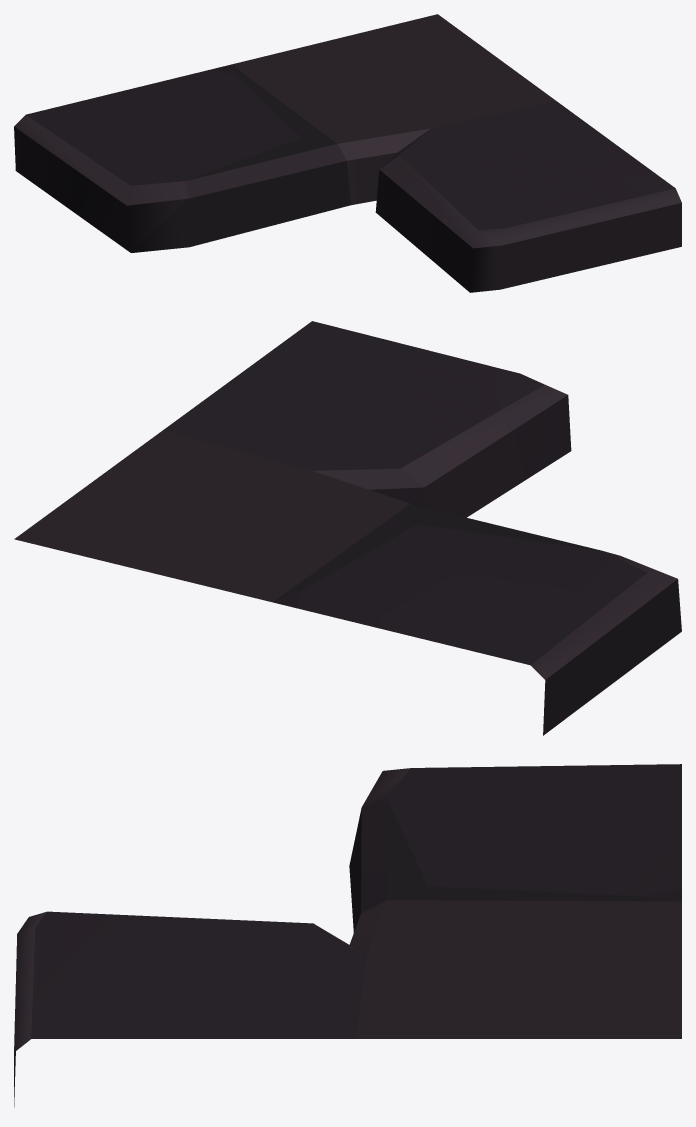
File: floor_pit_edge_corner_3.fbx
3 renders of one model, top to bottom at view 1: azimuth 30°, elevation 25°; view 2: azimuth 150°, elevation 25°; view 3: azimuth 270°, elevation 25°, orthographic. The views are drawn at different scales.
Parts seen in each view (by area): view 1: floor_pit_edge_corner_3; view 2: floor_pit_edge_corner_3; view 3: floor_pit_edge_corner_3.
Part boxes in pixels (bbox=[...]): floor_pit_edge_corner_3: bbox=[14, 14, 681, 292]; floor_pit_edge_corner_3: bbox=[14, 321, 681, 735]; floor_pit_edge_corner_3: bbox=[14, 764, 681, 1107].
Bounding box in the file's own units: 206 × 25 × 205.
